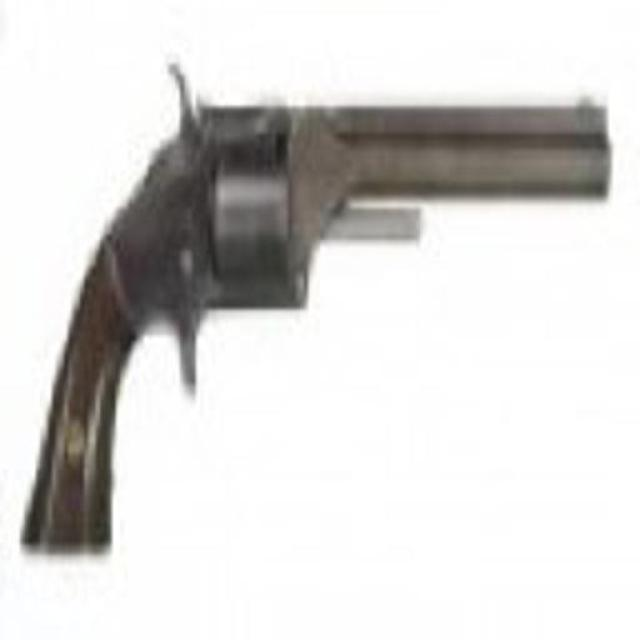pistol: (23, 64, 611, 549)
